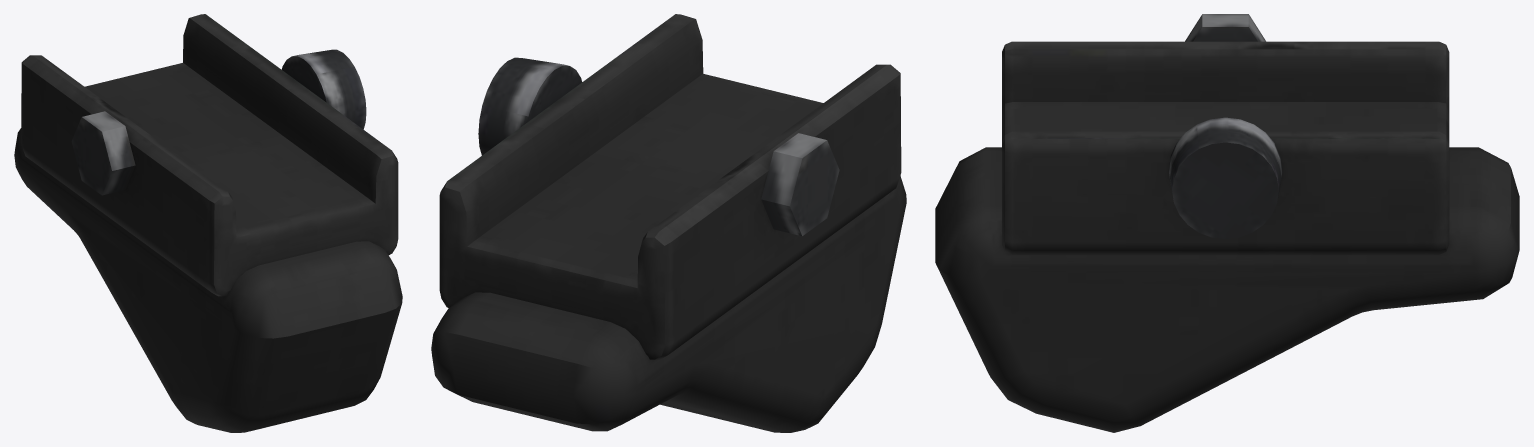
The model's file is grip_thumb.glb.
3 views of the same model, side by side, from view 1: azimuth 30°, elevation 25°; view 2: azimuth 150°, elevation 25°; view 3: azimuth 270°, elevation 25° (orthographic). The views are drawn at different scales.
Visible parts, largest first — view 1: body; view 2: body; view 3: body.
Part boxes in pixels (x1,y1,x2,y2): body: (14,14,402,432); body: (431,14,906,432); body: (935,14,1519,432).
Bounding box in the file's own units: 0.0386 × 0.0432 × 0.0679.
1 material, 1 textured.
